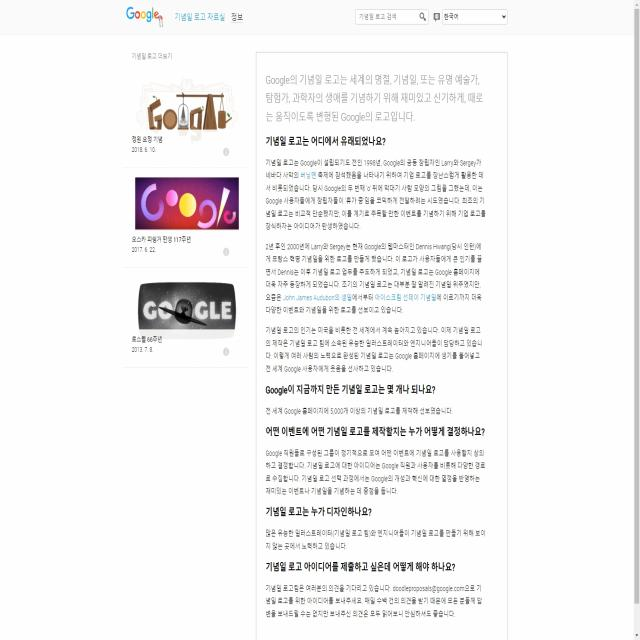menu-bar: (171, 3, 248, 31)
search: (353, 6, 430, 26)
side-panel: (120, 72, 250, 371)
